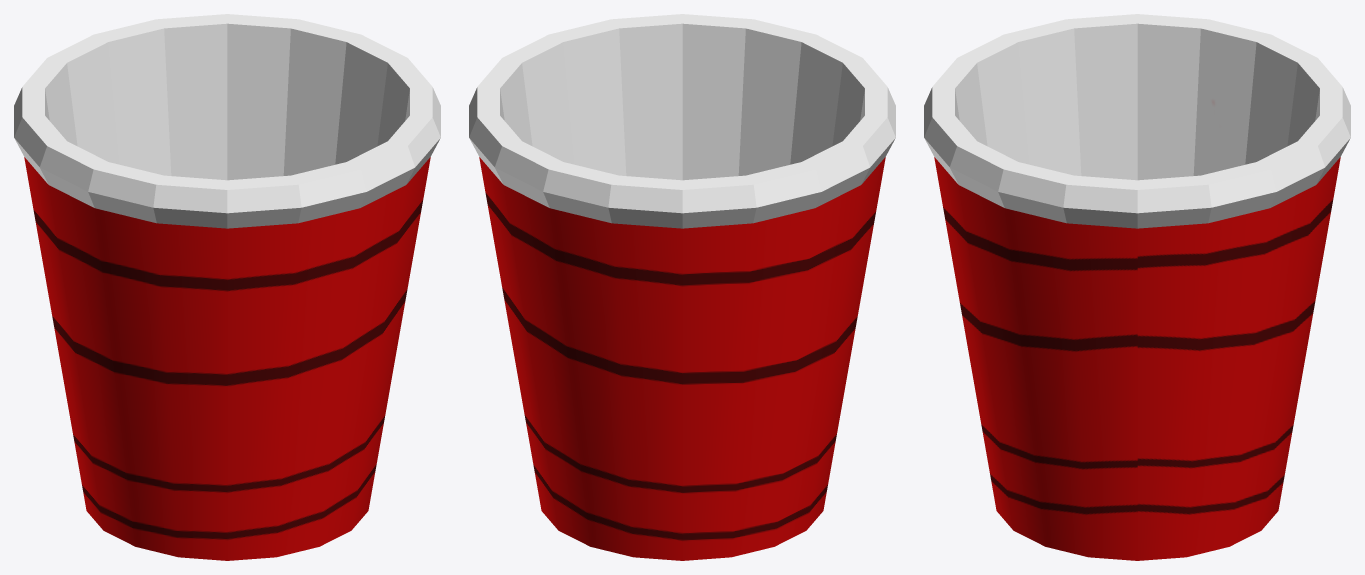
Rendered from solocup.FBX.
3 renders of one model, left to right at view 1: azimuth 30°, elevation 25°; view 2: azimuth 150°, elevation 25°; view 3: azimuth 270°, elevation 25°, orthographic.
Parts seen in each view (by area): view 1: Cylinder001; view 2: Cylinder001; view 3: Cylinder001.
Part boxes in pixels (x1,y1,x2,y2): Cylinder001: (14, 14, 440, 560); Cylinder001: (469, 14, 895, 560); Cylinder001: (924, 14, 1350, 560).
Size of the model in its own units: 57.12 by 57.93 by 56.25.
